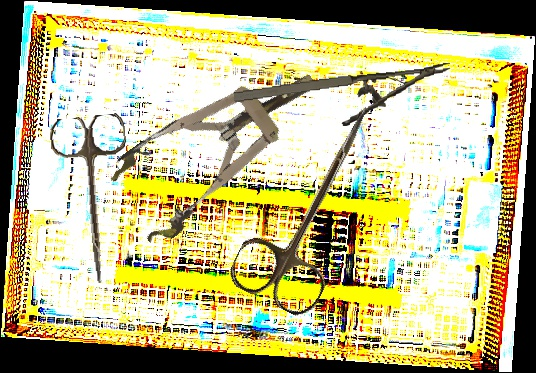Iris Scissors: (224, 85, 404, 322), (48, 112, 141, 287)
Needle Holder: (232, 62, 456, 138)
Speculum: (99, 40, 342, 251)
